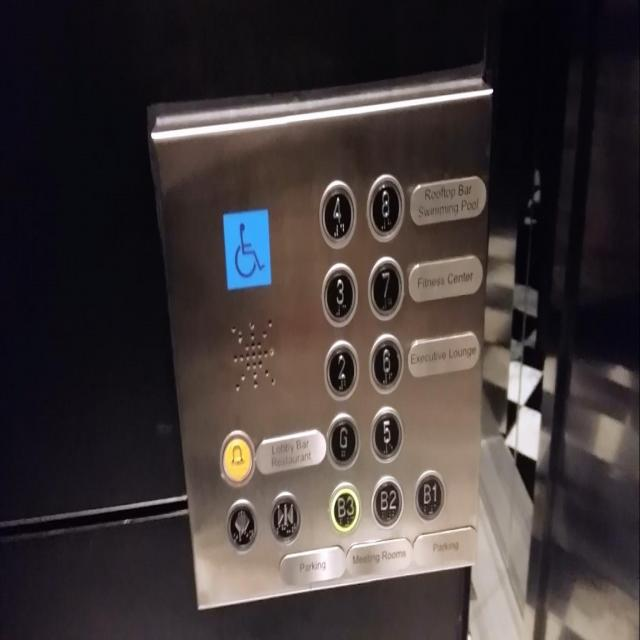2: (324, 339, 361, 402)
3: (320, 262, 357, 328)
4: (319, 180, 357, 252)
5: (369, 406, 404, 465)
6: (367, 334, 404, 396)
7: (367, 256, 404, 322)
8: (364, 172, 404, 242)
B1: (413, 469, 446, 523)
B2: (370, 475, 404, 528)
B3: (328, 482, 362, 534)
CH: (222, 208, 271, 292)
G: (325, 410, 360, 469)
alarm: (218, 430, 254, 488)
close: (270, 491, 302, 543)
open: (224, 498, 258, 555)
